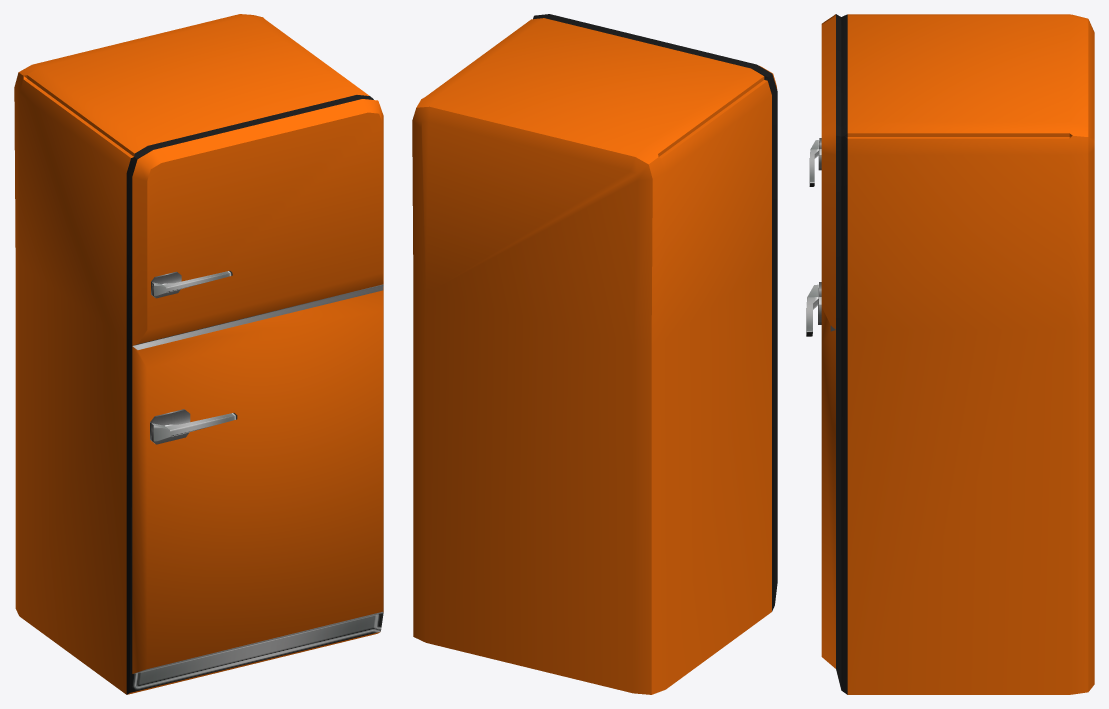
The model's file is Fridge_05.FBX.
The picture shows the model from 3 angles, left to right: view 1: azimuth 30°, elevation 25°; view 2: azimuth 150°, elevation 25°; view 3: azimuth 270°, elevation 25°; orthographic projection. The views are drawn at different scales.
Visible parts, largest first — view 1: Fridge; view 2: Fridge; view 3: Fridge.
Boxes of the visible parts, x1,y1,x2,y2 form: Fridge: [14, 14, 383, 694]; Fridge: [412, 14, 777, 694]; Fridge: [806, 14, 1094, 694].
Bounding box in the file's own units: 145 × 300 × 139.
